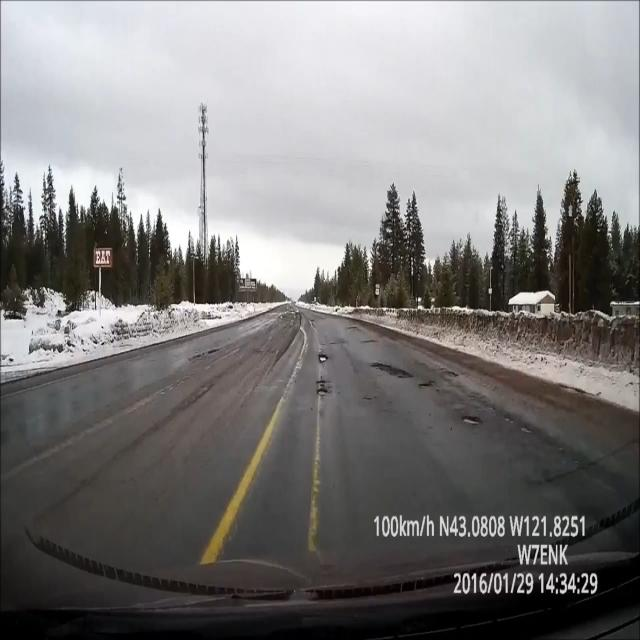Pothole: (298, 335, 340, 409), (363, 354, 421, 388), (461, 408, 482, 429)
